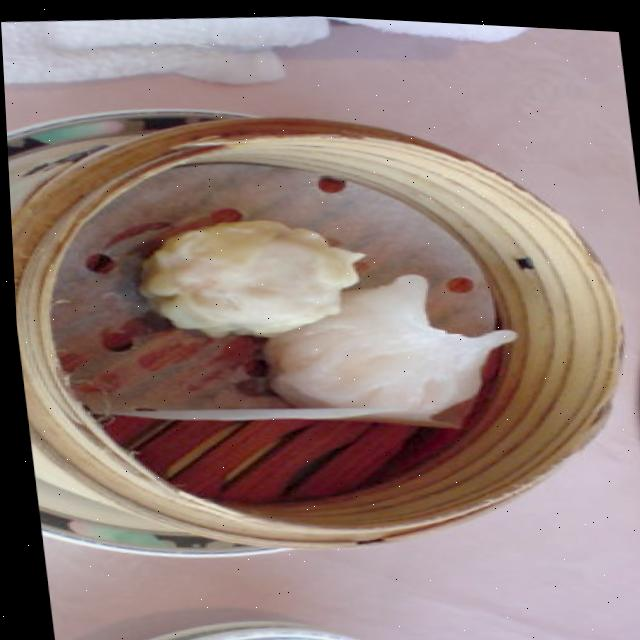带馅早点: (95, 172, 538, 480)
